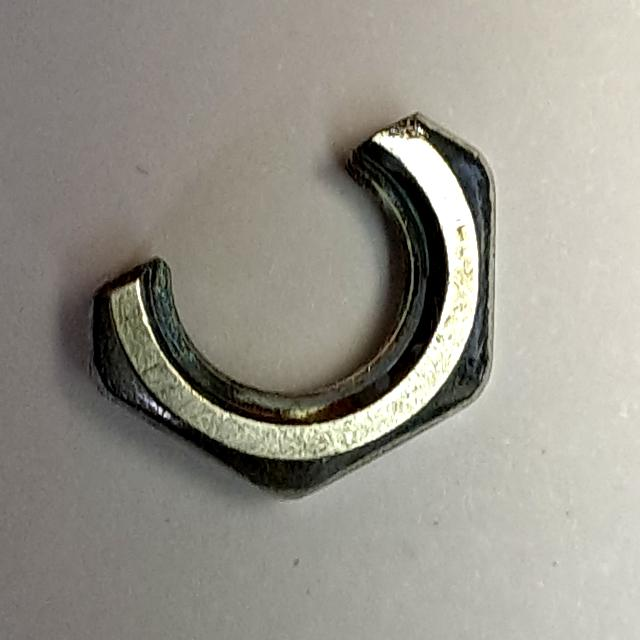Fracture: (68, 102, 506, 514)
